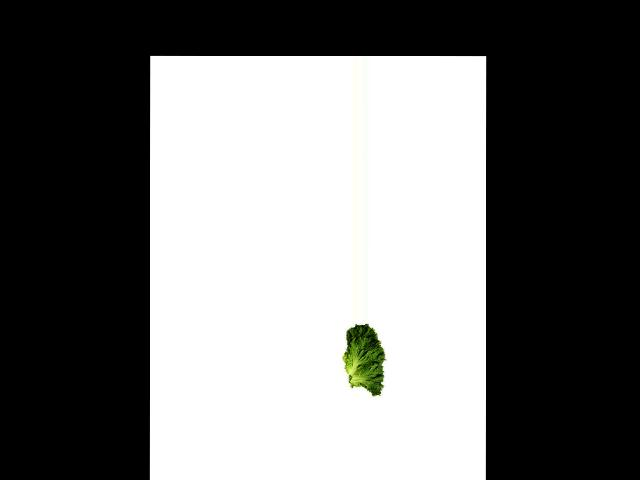lettuce: (340, 323, 390, 395)
